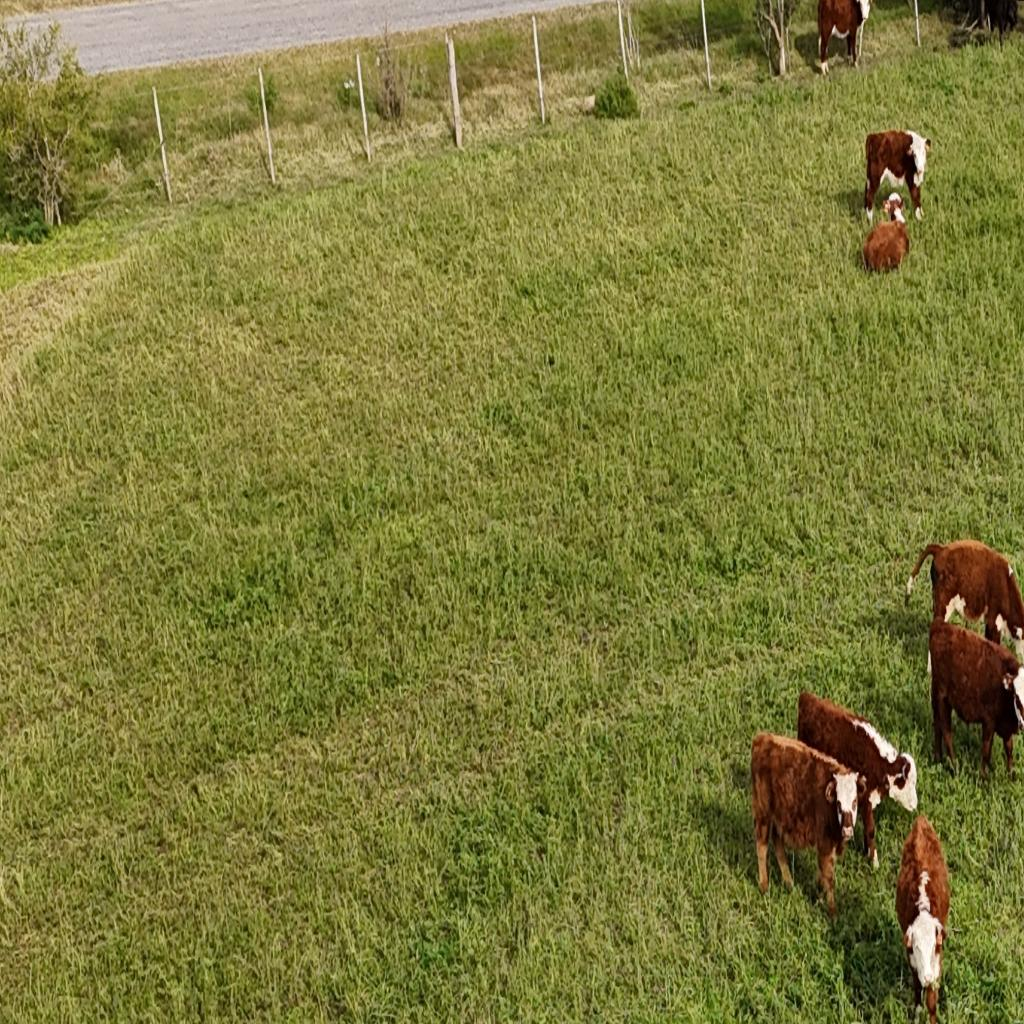cow: (743, 730, 864, 926), (925, 620, 1023, 785), (904, 529, 1024, 661), (796, 689, 918, 814), (898, 808, 949, 1017), (860, 122, 928, 218), (862, 192, 912, 278), (817, 1, 870, 78), (978, 1, 1019, 49)
